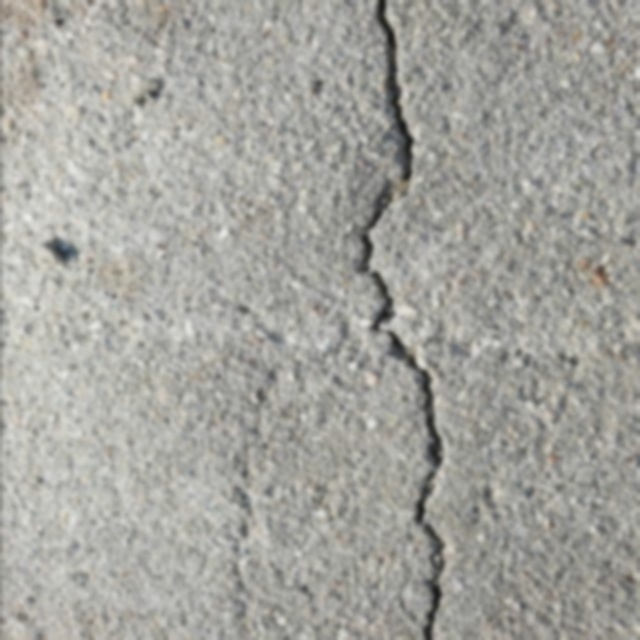SurfaceCrack: (332, 1, 477, 640)
